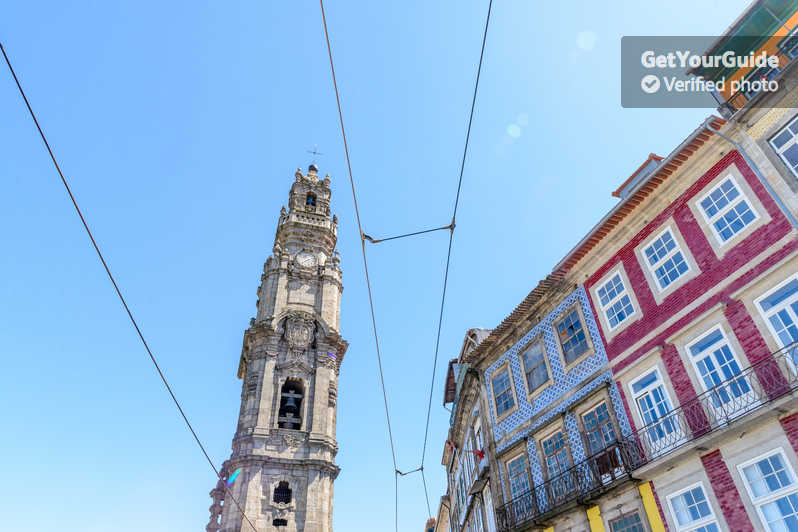clerigos: (207, 147, 350, 531)
